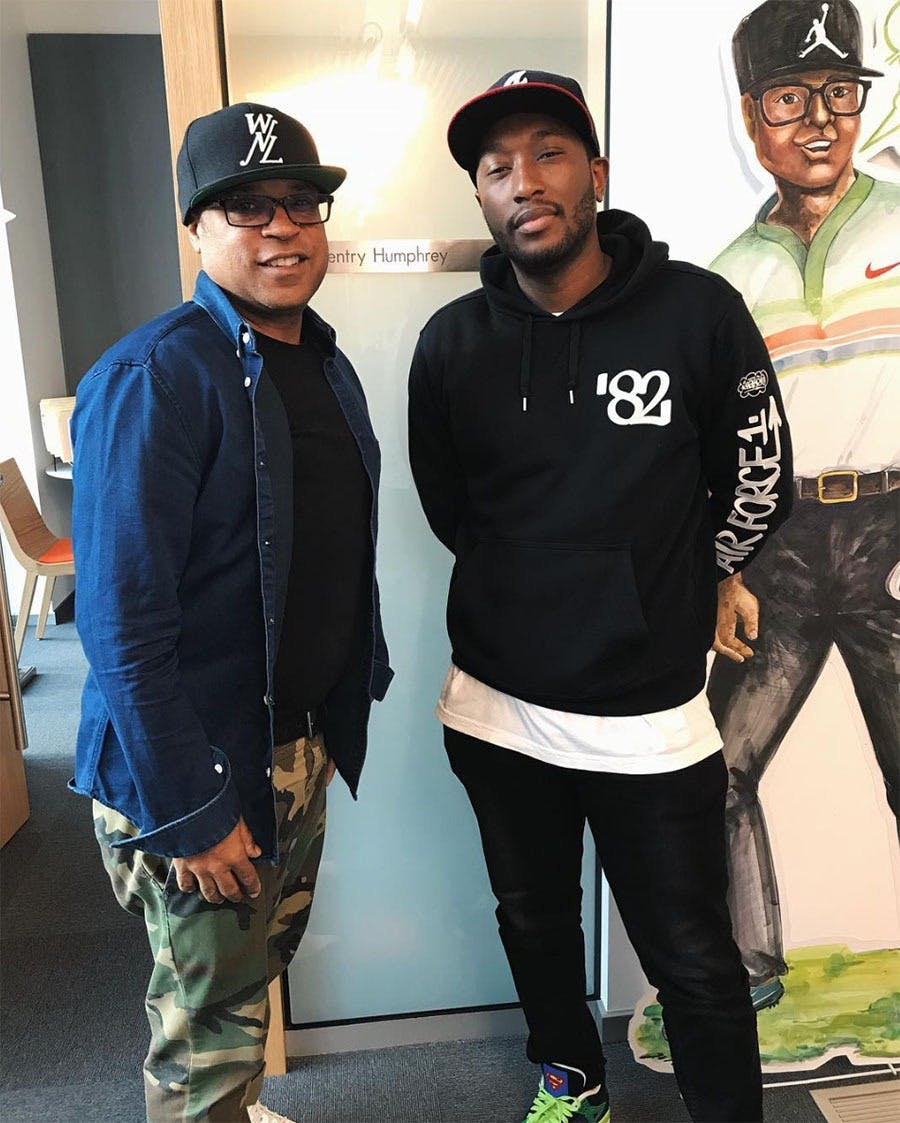Person: (418, 79, 782, 1123), (91, 106, 386, 1106)
